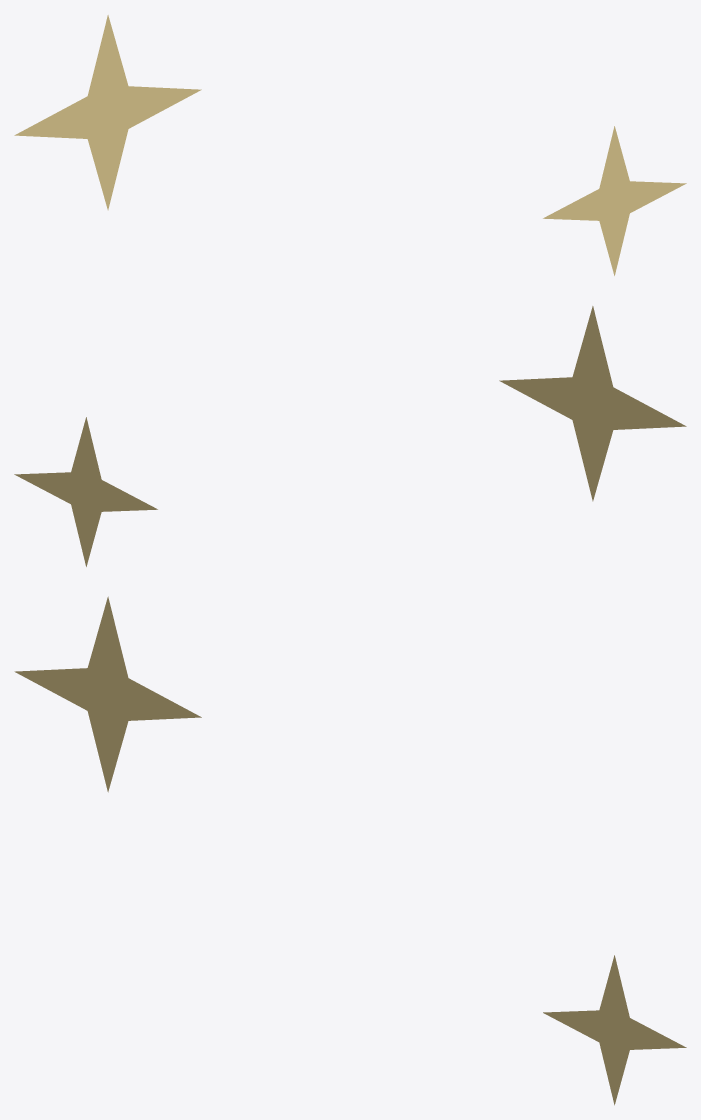
File: rodfx-candy-cane.glb
3 renders of one model, top to bottom at view 1: azimuth 30°, elevation 25°; view 2: azimuth 150°, elevation 25°; view 3: azimuth 330°, elevation 25°, orthographic.
Visible parts, largest first — view 1: Twinkle; view 2: Twinkle; view 3: Twinkle.
Part boxes in pixels (<box>): Twinkle: <box>14,15,686,275</box>; Twinkle: <box>14,306,686,566</box>; Twinkle: <box>14,596,686,1105</box>.
Size of the model in its own units: 0.093 by 0.051 by 0.
